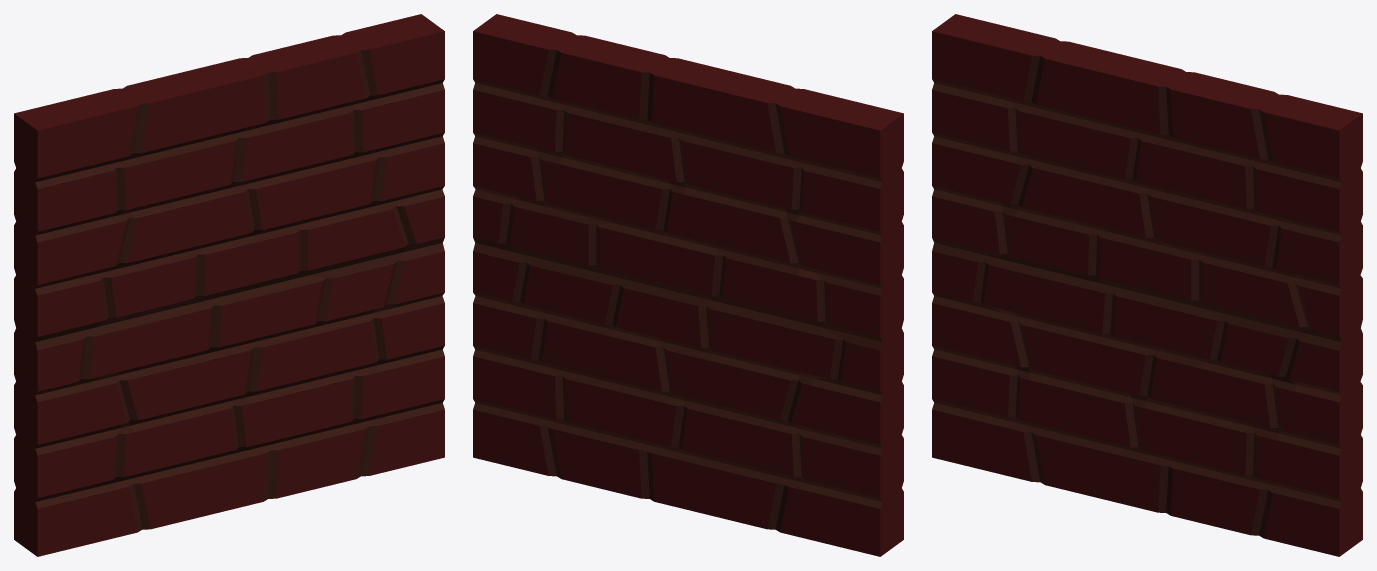
File: brick_wall.obj
3 views of the same model, side by side, from view 1: azimuth 30°, elevation 25°; view 2: azimuth 150°, elevation 25°; view 3: azimuth 330°, elevation 25° (orthographic).
Parts seen in each view (by area): view 1: Brick_Wall; view 2: Brick_Wall; view 3: Brick_Wall.
Part boxes in pixels (<box>): Brick_Wall: <box>14,14,444,556</box>; Brick_Wall: <box>473,14,903,556</box>; Brick_Wall: <box>932,14,1362,556</box>.
Bounding box in the file's own units: 2 × 2 × 0.2.
